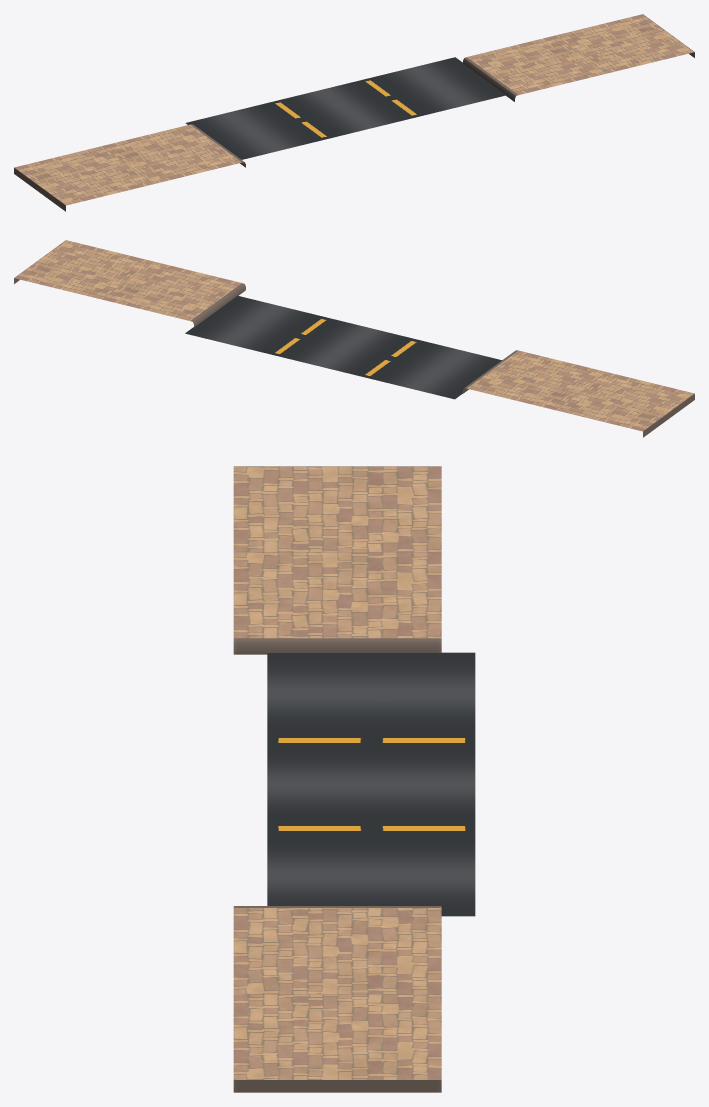
The model's file is RoadAndSidewalk_MOD.fbx.
3 renders of one model, top to bottom at view 1: azimuth 30°, elevation 25°; view 2: azimuth 150°, elevation 25°; view 3: azimuth 270°, elevation 25°, orthographic. The views are drawn at different scales.
Parts seen in each view (by area): view 1: SM_Sidewalk, SM_Road; view 2: SM_Sidewalk, SM_Road; view 3: SM_Sidewalk, SM_Road.
Part boxes in pixels (x1,y1,x2,y2): SM_Sidewalk: [14, 14, 694, 211]; SM_Road: [185, 57, 505, 159]; SM_Sidewalk: [14, 240, 694, 437]; SM_Road: [185, 295, 501, 399]; SM_Sidewalk: [233, 466, 441, 1092]; SM_Road: [267, 652, 475, 916].
Bounding box in the file's own units: 1397 × 13.37 × 232.
